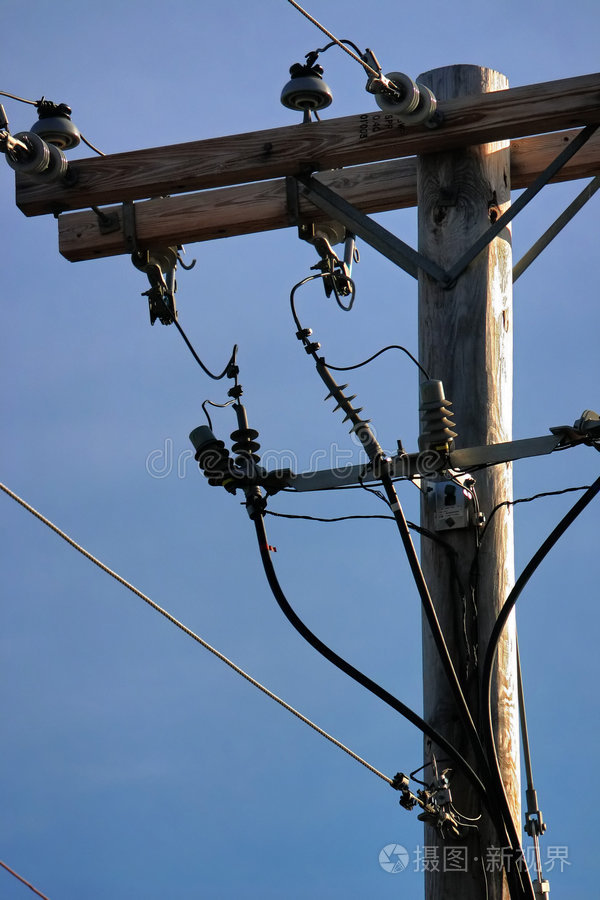insulator: (369, 71, 442, 125), (6, 131, 68, 186), (322, 384, 374, 439), (417, 399, 462, 451), (230, 429, 267, 470)
